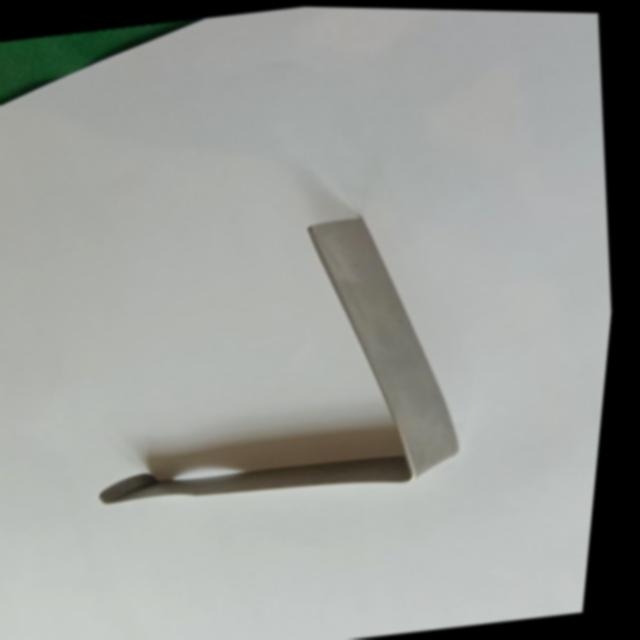AustinRetractor: (63, 187, 506, 530)
